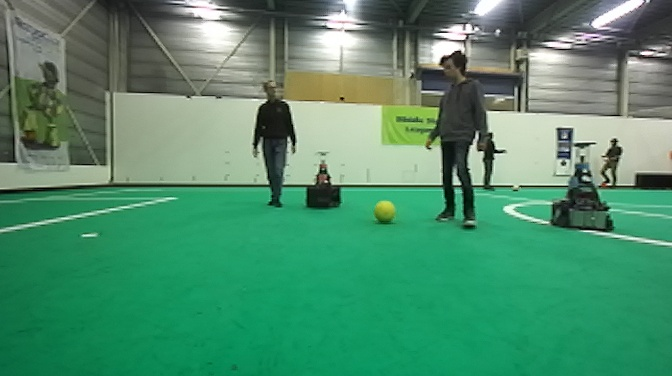ball: (373, 197, 398, 225), (509, 181, 521, 193), (600, 180, 611, 189)
human: (420, 46, 489, 231), (248, 79, 298, 209), (479, 128, 509, 193), (599, 138, 625, 189)
robot: (550, 141, 615, 233), (304, 150, 343, 212)
